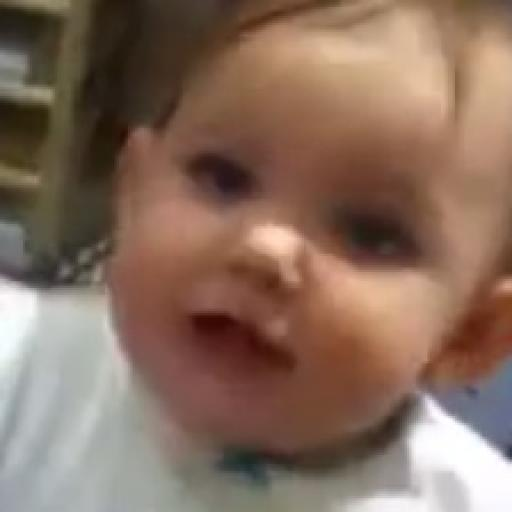Autism: (105, 29, 512, 512)
